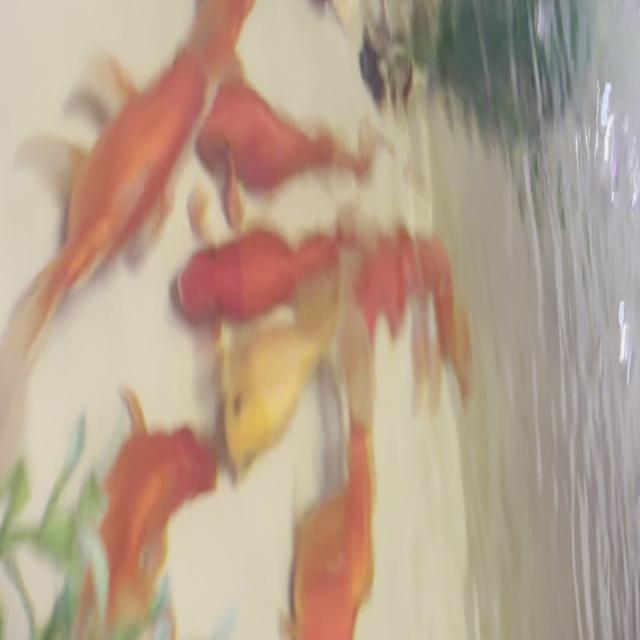fish: (0, 11, 202, 452), (85, 390, 216, 640), (191, 75, 369, 211), (348, 222, 473, 398), (282, 420, 376, 640), (214, 312, 341, 474), (177, 215, 343, 328), (178, 0, 298, 88)
